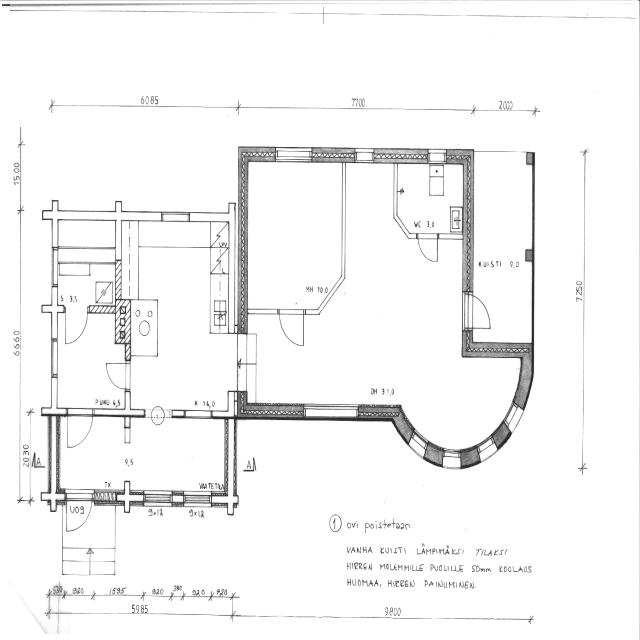door: (277, 306, 305, 350), (66, 408, 94, 451), (65, 492, 93, 534), (465, 292, 494, 331), (103, 358, 131, 392), (64, 311, 89, 346), (416, 232, 440, 265)
window: (302, 402, 358, 422), (273, 145, 314, 166), (142, 489, 174, 507), (182, 491, 212, 508), (159, 210, 191, 225), (353, 147, 376, 166), (184, 408, 214, 420), (427, 148, 448, 164)
zone: (132, 222, 232, 416), (242, 158, 346, 310), (467, 148, 535, 348), (395, 162, 468, 238), (56, 262, 116, 312), (131, 298, 158, 358), (428, 149, 448, 165)
